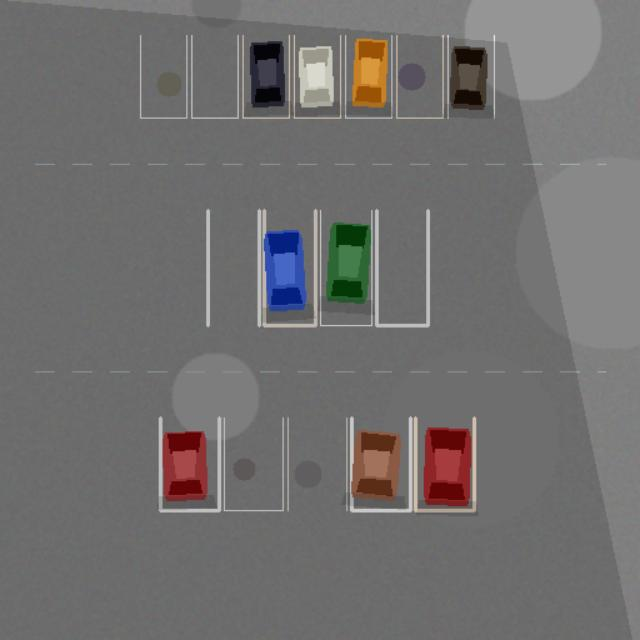space-empty: (376, 210, 428, 325), (208, 210, 259, 325), (224, 417, 283, 510), (287, 417, 346, 510), (191, 35, 238, 118), (140, 35, 186, 118), (396, 35, 442, 118)
space-occupied: (264, 210, 315, 325), (320, 210, 371, 325), (160, 417, 219, 510), (351, 417, 410, 510), (415, 417, 474, 510), (242, 35, 289, 118), (294, 35, 340, 118), (345, 35, 391, 118), (448, 35, 494, 118)
